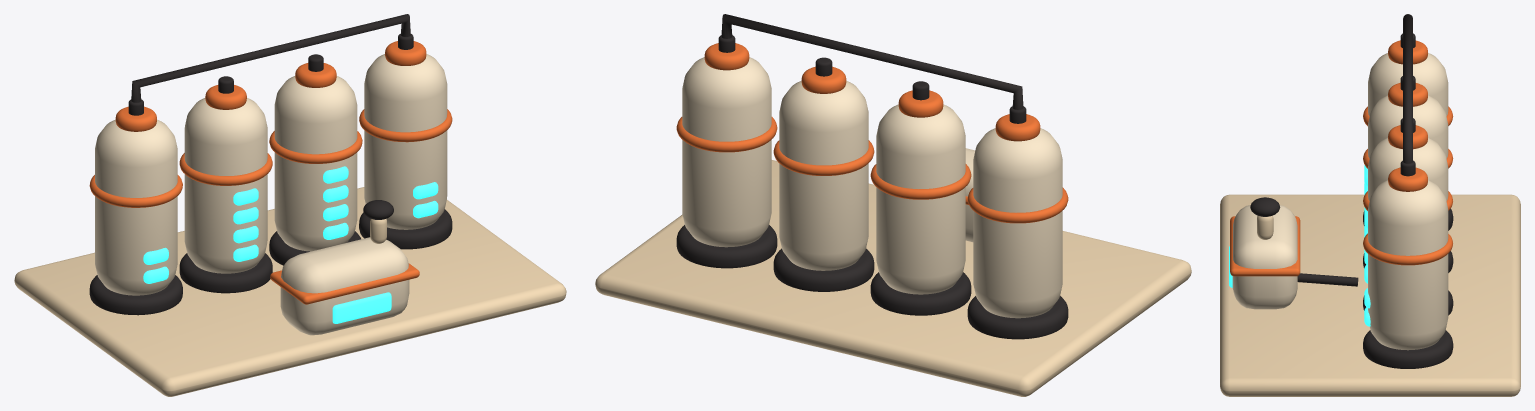
File: batteries-10.glb
3 renders of one model, left to right at view 1: azimuth 30°, elevation 25°; view 2: azimuth 150°, elevation 25°; view 3: azimuth 270°, elevation 25°, orthographic. The views are drawn at different scales.
Parts seen in each view (by area): view 1: Cube.013, Cube, Cylinder, Cube.014, Cube.001; view 2: Cube.013, Cube, Cylinder, Cube.014; view 3: Cube, Cube.013, Cylinder, Cube.014, Cube.001.
Part boxes in pixels (x1,y1,x2,y2): Cube.013: (95,54,447,335); Cube: (14,187,566,396); Cylinder: (89,14,452,315); Cube.014: (89,41,452,304); Cube.001: (143,166,438,323); Cube.013: (682,57,1062,318); Cube: (595,160,1191,396); Cylinder: (676,14,1068,339); Cube.014: (676,43,1068,223); Cube: (1220,194,1520,396); Cube.013: (1232,53,1448,350); Cylinder: (1250,14,1453,368); Cube.014: (1230,40,1453,276); Cube.001: (1229,165,1370,326).
Size of the model in its own units: 1.8 by 0.9941 by 1.2.
